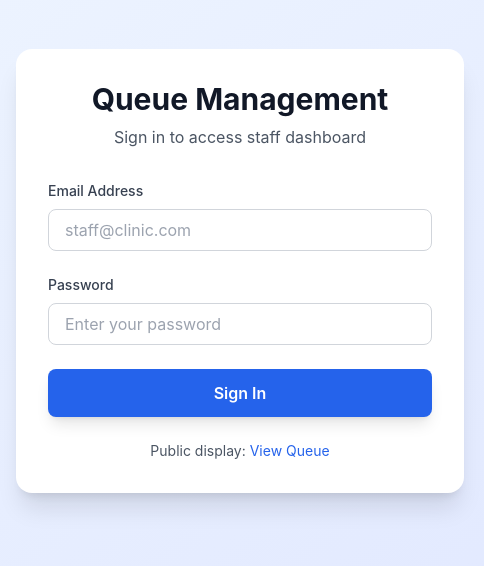
it: Login › shows error message when login fails
Type "jane@example.com" into the field labelled "Email Address". click: (240, 230)
box: [48,209,432,251]
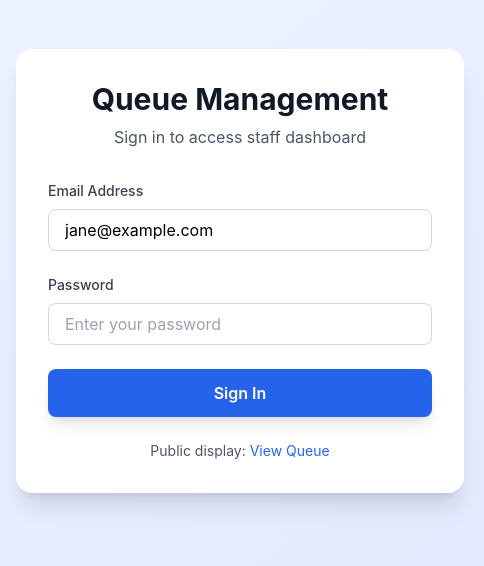
Type "wrong" into the password field labelled "Password". click: (240, 324)
box: [48,303,432,345]
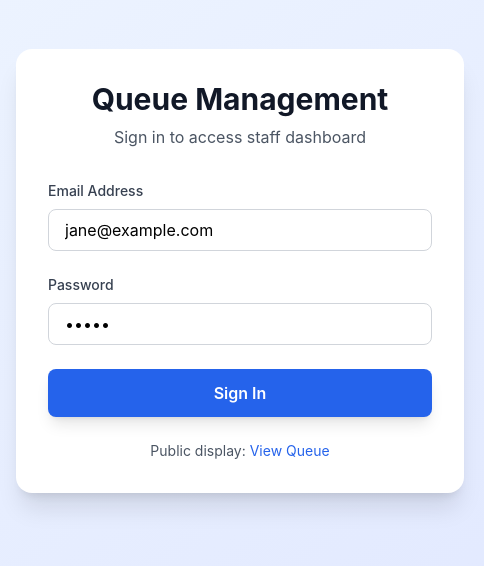
Click the button "Sign In". click: (240, 393)
box: [48,369,432,417]
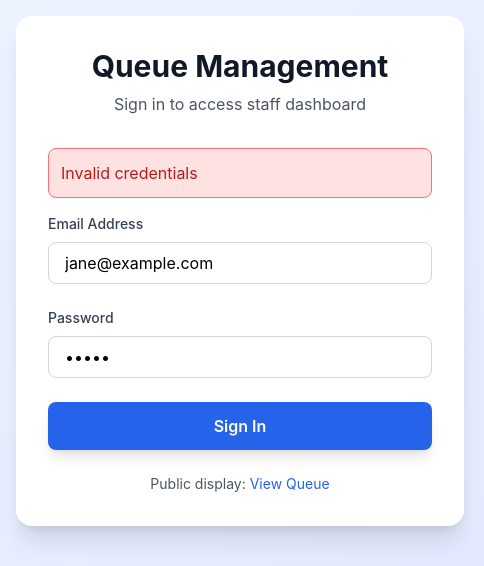
Check: the text "Invalid credentials" is shown, box [48,148,432,198]
